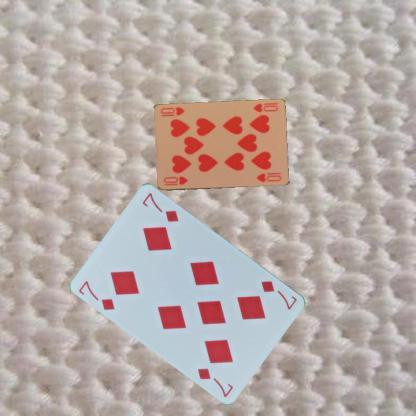10h: (250, 101, 280, 113), (162, 174, 188, 186)
7d: (259, 278, 299, 312), (76, 278, 116, 312)
